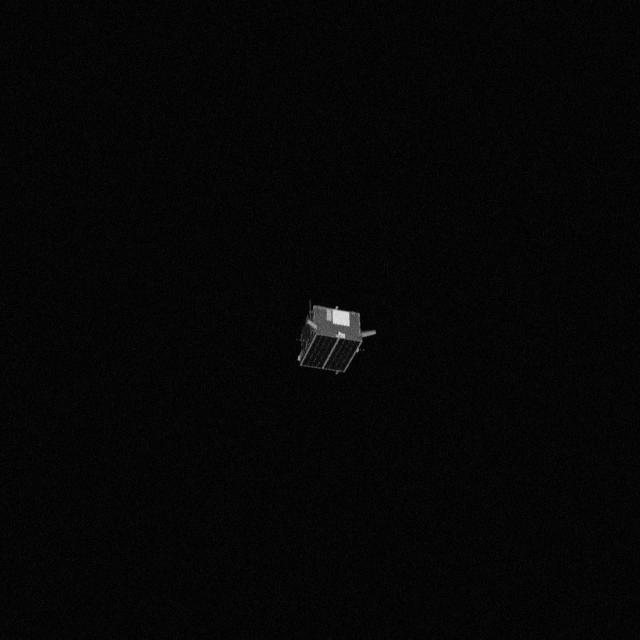medium_debris: (292, 300, 384, 380)
